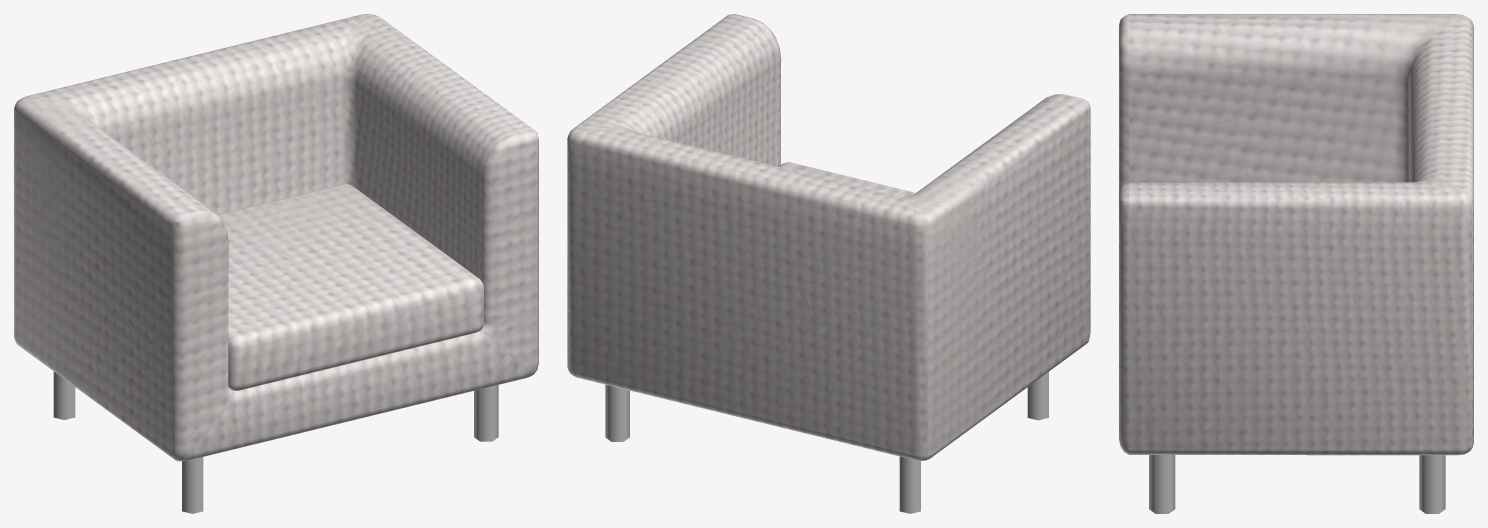
File: Sofa_Chair.fbx
The picture shows the model from 3 angles, left to right: view 1: azimuth 30°, elevation 25°; view 2: azimuth 150°, elevation 25°; view 3: azimuth 270°, elevation 25°; orthographic projection. The views are drawn at different scales.
Visible parts, largest first — view 1: Sofa; view 2: Sofa; view 3: Sofa.
Part boxes in pixels (box(x1,y1,x2,y2)): Sofa: box(14, 14, 538, 513); Sofa: box(567, 14, 1090, 513); Sofa: box(1119, 14, 1473, 513).
Bounding box in the file's own units: 120 × 97.44 × 95.33.
Materials: 2 (1 with a texture image).
